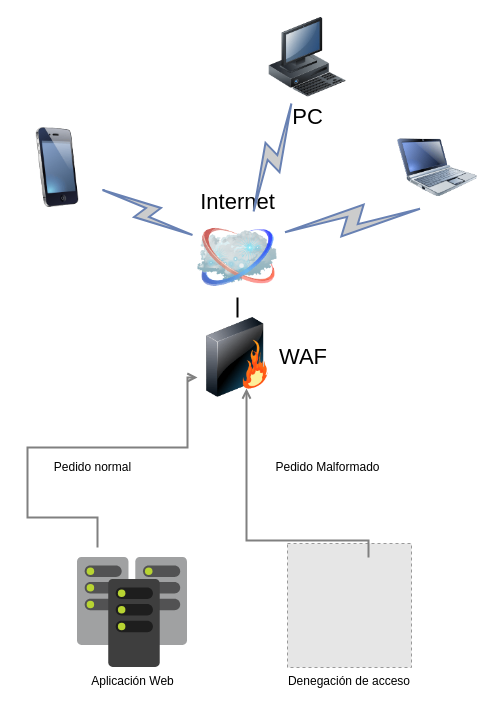
Image size: 494x705. Some labels were removed from this diagram. Grey dashed boxes stand in for pictures. The centre of each missing label's shape, as x and y in pixels:
"Laptop" goes at (x=437, y=167).
"Mobile" goes at (x=57, y=167).
